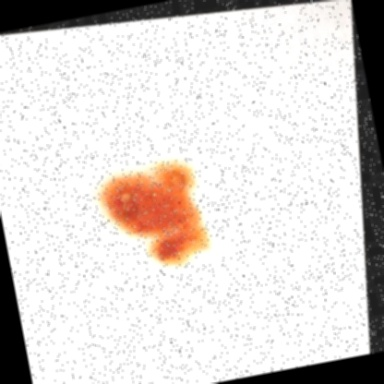kimchi: (93, 154, 217, 286)
